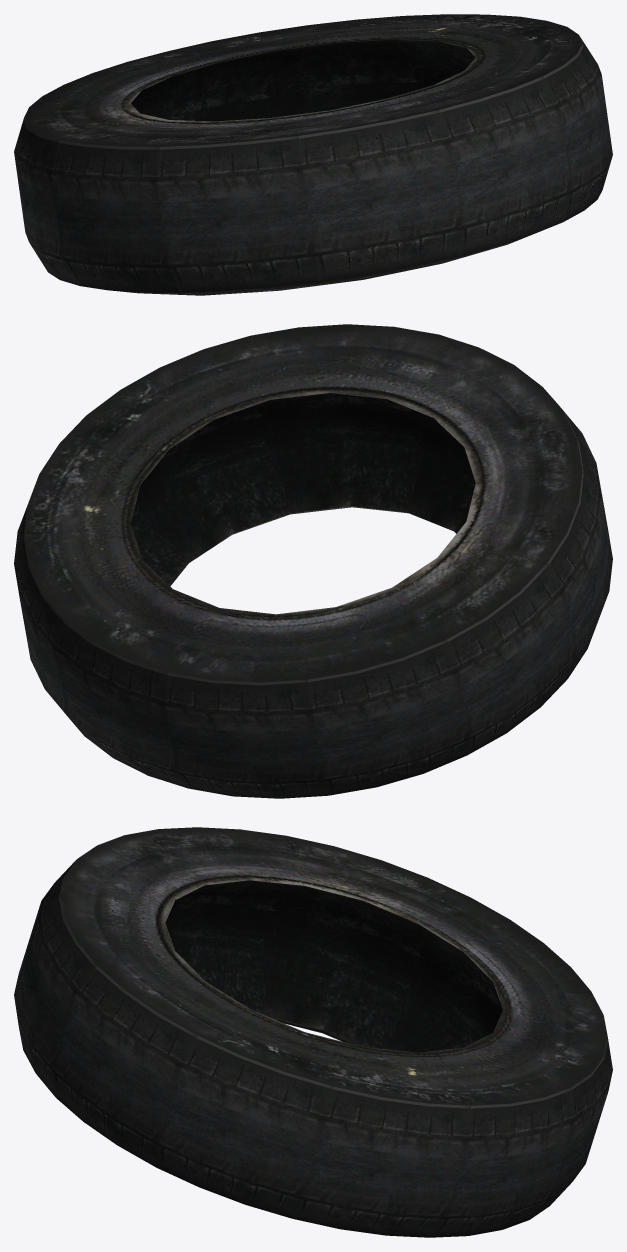
The model's file is Roue1.obj.
3 renders of one model, top to bottom at view 1: azimuth 30°, elevation 25°; view 2: azimuth 150°, elevation 25°; view 3: azimuth 270°, elevation 25°, orthographic.
Visible parts, largest first — view 1: Roue3; view 2: Roue3; view 3: Roue3.
Part boxes in pixels (x1,y1,x2,y2): Roue3: [14, 14, 612, 295]; Roue3: [14, 324, 612, 798]; Roue3: [14, 827, 612, 1237].
Size of the model in its own units: 2.53 by 1.28 by 2.53.
1 material, 1 textured.
